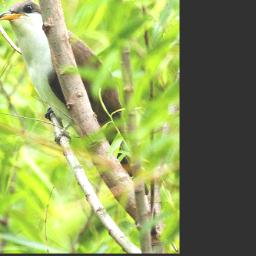Cuckoo: (0, 0, 160, 196)
